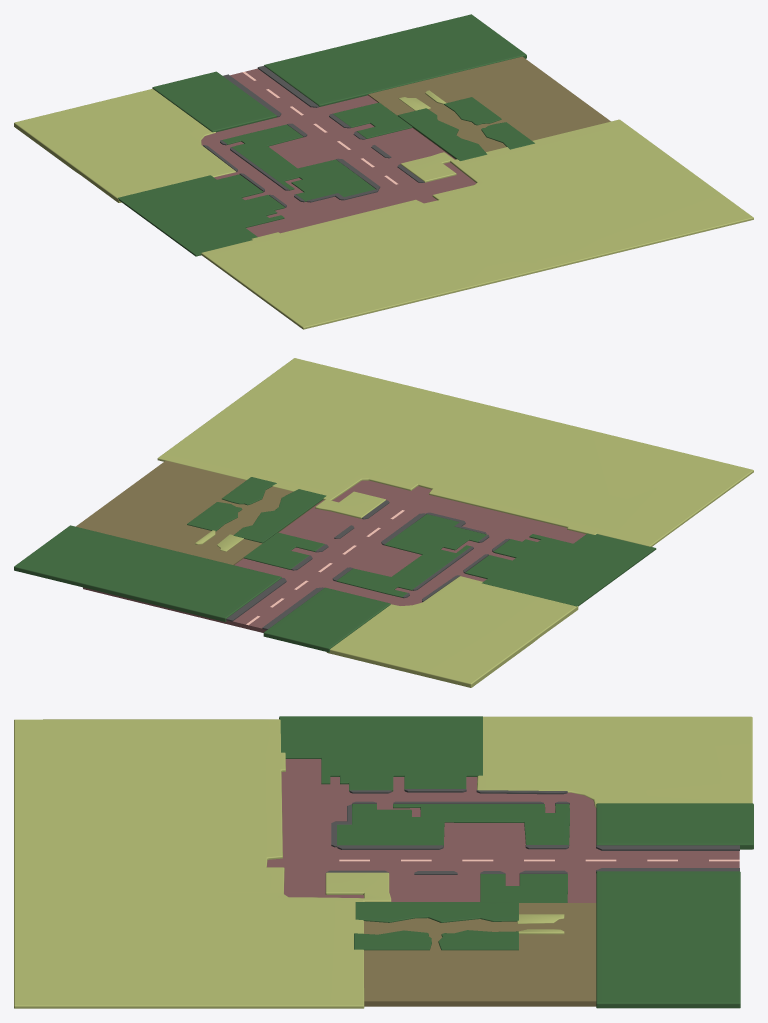
File: my env.fbx
3 views of the same model, one above another, from view 1: azimuth 30°, elevation 25°; view 2: azimuth 150°, elevation 25°; view 3: azimuth 270°, elevation 25° (orthographic). The views are drawn at different scales.
Parts seen in each view (by area): view 1: Cube.010, Cube.001, Cube.008, Cube.006, Cube.002, Cube.009, Cube.003, Cube.004, Cube.013, Cube.014, Cube.005; view 2: Cube.010, Cube.001, Cube.008, Cube.006, Cube.002, Cube.009, Cube.003, Cube.004, Cube.013, Cube.014, Cube.005; view 3: Cube.010, Cube.001, Cube.008, Cube.006, Cube.002, Cube.009, Cube.003, Cube.004, Cube.013, Cube.014, Cube.005, Cube.015 (+1 smaller).
Boxes of the visible parts, bbox=[...] form: Cube.010: bbox=[201, 119, 753, 329]; Cube.001: bbox=[201, 68, 476, 236]; Cube.008: bbox=[14, 88, 235, 202]; Cube.006: bbox=[264, 14, 526, 106]; Cube.002: bbox=[368, 56, 610, 159]; Cube.009: bbox=[118, 174, 284, 256]; Cube.003: bbox=[222, 124, 375, 201]; Cube.004: bbox=[152, 71, 276, 132]; Cube.013: bbox=[397, 97, 534, 160]; Cube.014: bbox=[223, 66, 424, 189]; Cube.005: bbox=[333, 102, 412, 138]; Cube.010: bbox=[157, 358, 753, 546]; Cube.001: bbox=[83, 480, 585, 632]; Cube.008: bbox=[326, 576, 578, 687]; Cube.006: bbox=[14, 525, 281, 621]; Cube.002: bbox=[76, 460, 322, 565]; Cube.009: bbox=[465, 533, 656, 606]; Cube.003: bbox=[336, 514, 486, 597]; Cube.004: bbox=[263, 587, 390, 652]; Cube.013: bbox=[187, 477, 326, 543]; Cube.014: bbox=[226, 500, 426, 629]; Cube.005: bbox=[243, 532, 324, 569]; Cube.010: bbox=[14, 719, 391, 1008]; Cube.001: bbox=[267, 759, 739, 902]; Cube.008: bbox=[477, 716, 752, 807]; Cube.006: bbox=[596, 871, 740, 1008]; Cube.002: bbox=[364, 903, 596, 1006]; Cube.009: bbox=[279, 716, 482, 791]; Cube.003: bbox=[337, 804, 569, 846]; Cube.004: bbox=[596, 803, 753, 849]; Cube.013: bbox=[354, 902, 518, 950]; Cube.014: bbox=[326, 845, 739, 874]; Cube.005: bbox=[480, 874, 567, 902]; Cube.015: bbox=[349, 789, 567, 794].
Bounding box in the file's own units: 23496 × 304 × 25284.
